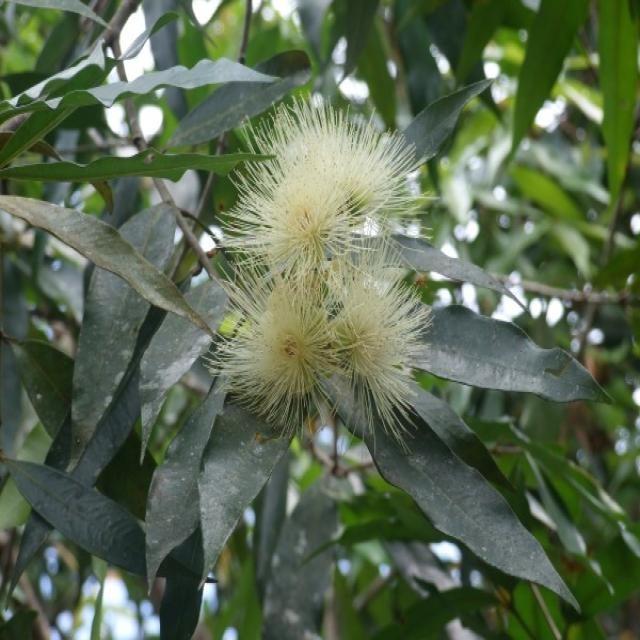Medicinal-Rose Apple: (0, 0, 612, 640)
